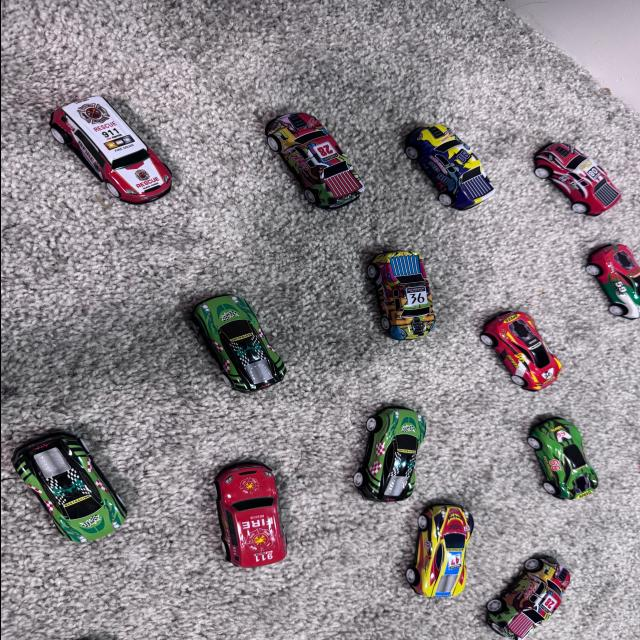car: (210, 90, 373, 250), (54, 44, 198, 218), (10, 428, 156, 543), (331, 386, 447, 526), (190, 267, 304, 403), (461, 527, 594, 640), (202, 452, 313, 580), (338, 247, 456, 361), (406, 93, 508, 223), (516, 126, 626, 246), (396, 495, 502, 618), (471, 304, 591, 400), (552, 223, 640, 351), (508, 416, 610, 526)
